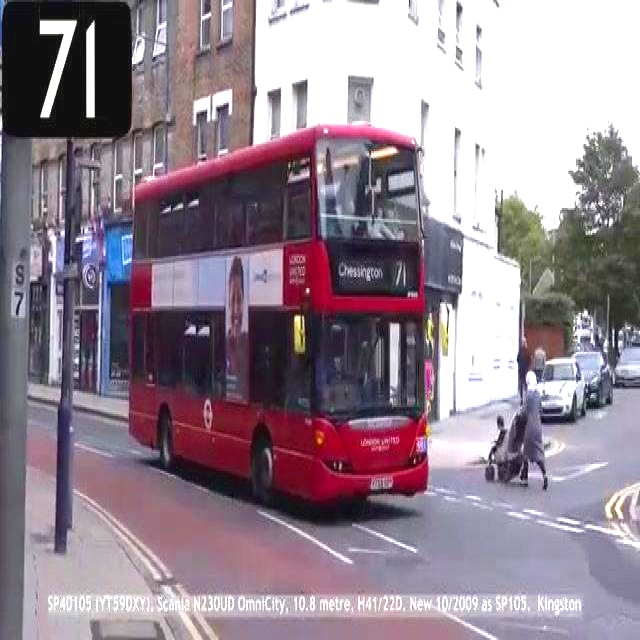bus: (94, 112, 446, 528)
car: (528, 360, 591, 432)
